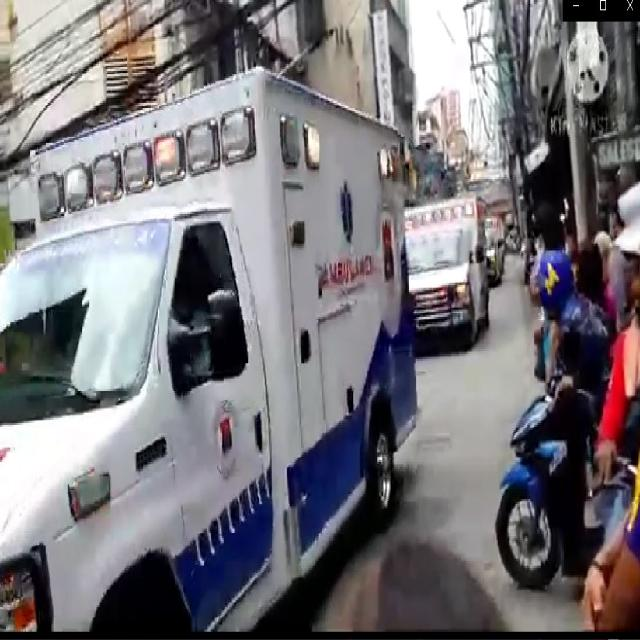emergency: (0, 58, 423, 640), (399, 195, 493, 342), (467, 207, 510, 290)
